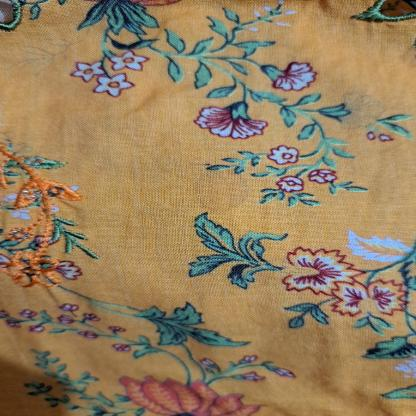spot: (192, 160, 260, 216)
